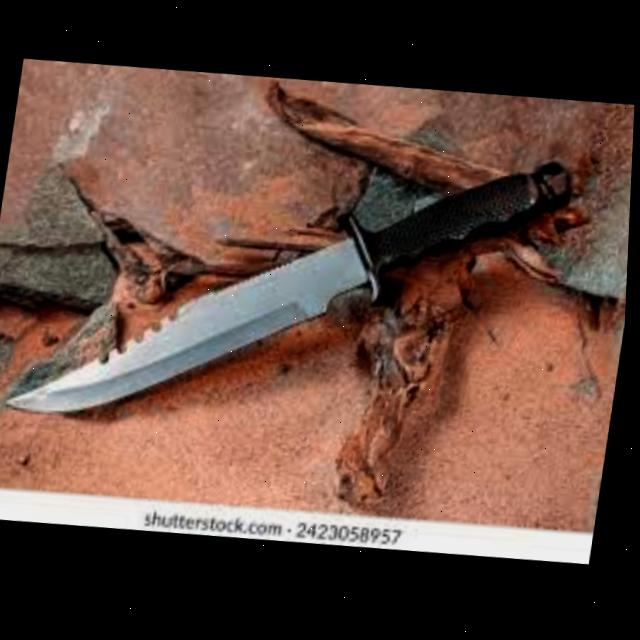knife: (5, 104, 584, 465)
